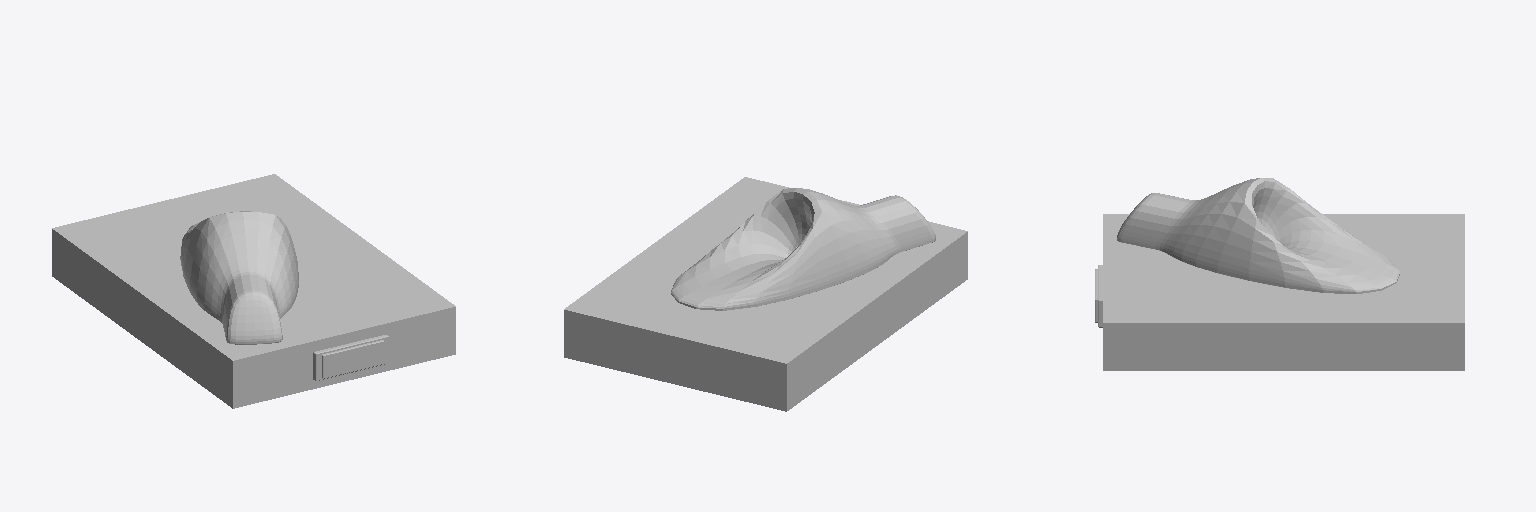
Rendered from Pissoir.obj.
The picture shows the model from 3 angles: view 1: azimuth 30°, elevation 25°; view 2: azimuth 150°, elevation 25°; view 3: azimuth 270°, elevation 25°; orthographic projection.
Visible parts, largest first — view 1: Box128, Box109, Box130, Box129; view 2: Box128, Box109; view 3: Box128, Box109.
Boxes of the visible parts, <box> form: Box128: <box>52,174,455,408</box>; Box109: <box>180,211,298,344</box>; Box130: <box>322,340,384,378</box>; Box129: <box>313,335,388,380</box>; Box128: <box>564,177,967,411</box>; Box109: <box>671,188,935,310</box>; Box128: <box>1103,214,1464,370</box>; Box109: <box>1117,178,1399,293</box>.
Bounding box in the file's own units: 386 × 201 × 556.